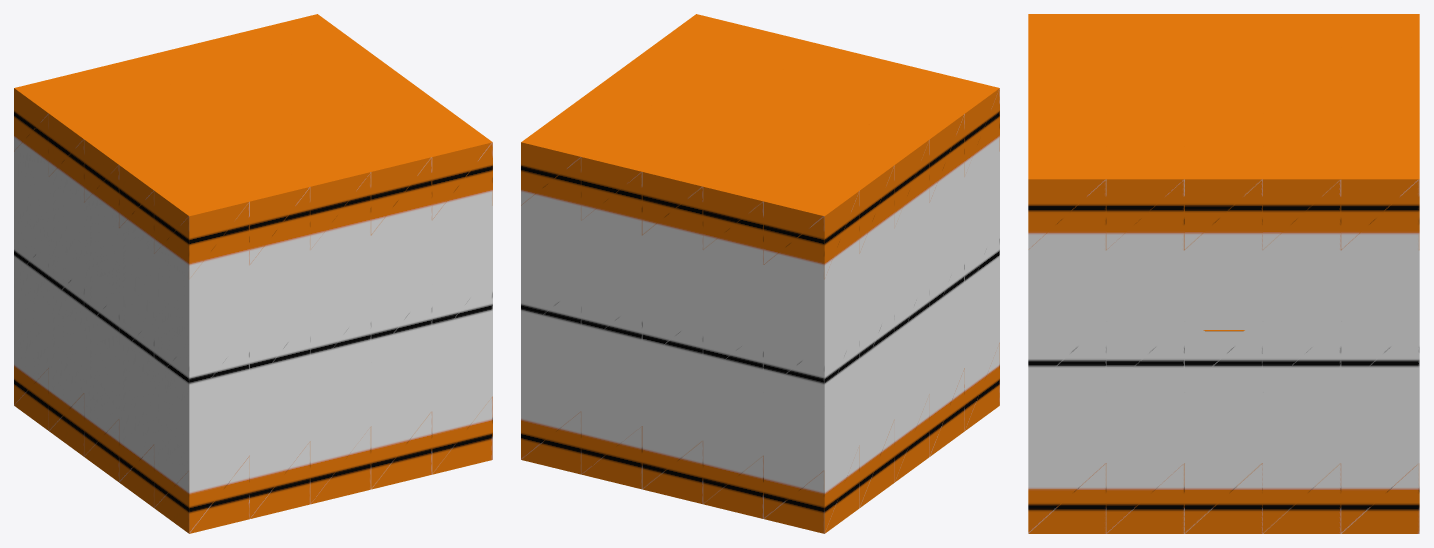
The picture shows the model from 3 angles, left to right: view 1: azimuth 30°, elevation 25°; view 2: azimuth 150°, elevation 25°; view 3: azimuth 270°, elevation 25°; orthographic projection. The views are drawn at different scales.
Visible parts, largest first — view 1: 큐브; view 2: 큐브; view 3: 큐브.
Part boxes in pixels (x1,y1,x2,y2): 큐브: (14, 14, 492, 533); 큐브: (521, 14, 999, 533); 큐브: (1028, 14, 1419, 533).
Size of the model in its own units: 1.6 by 1.6 by 1.6.
3 materials, 1 textured.
